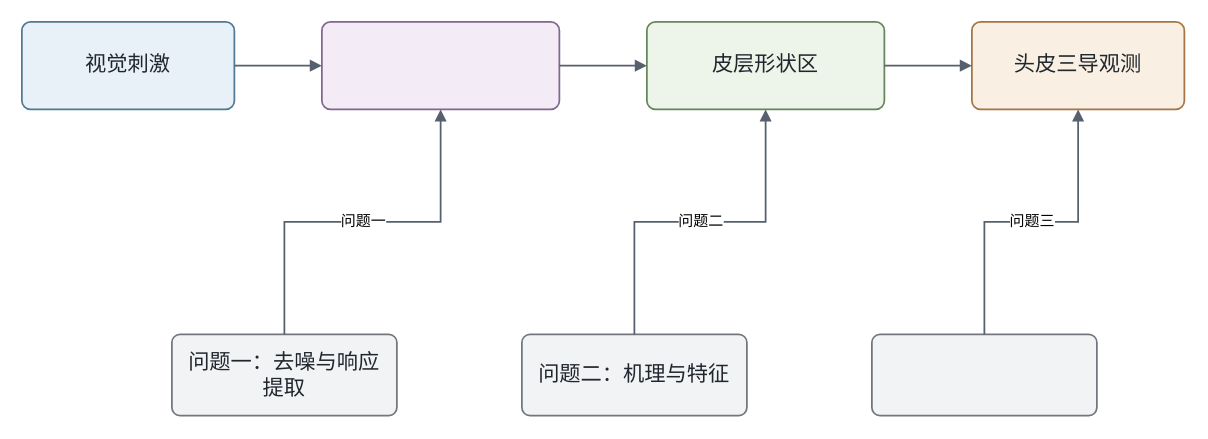
Image size: 1208x439. Some labels were removed from this diagram. The shapes that lost their labels are listed below. From the top down, each one's centre as x and y in pixels, then its label:
(440,65): 视网膜与 LGN
(983,374): 问题三：认知模型与验证
